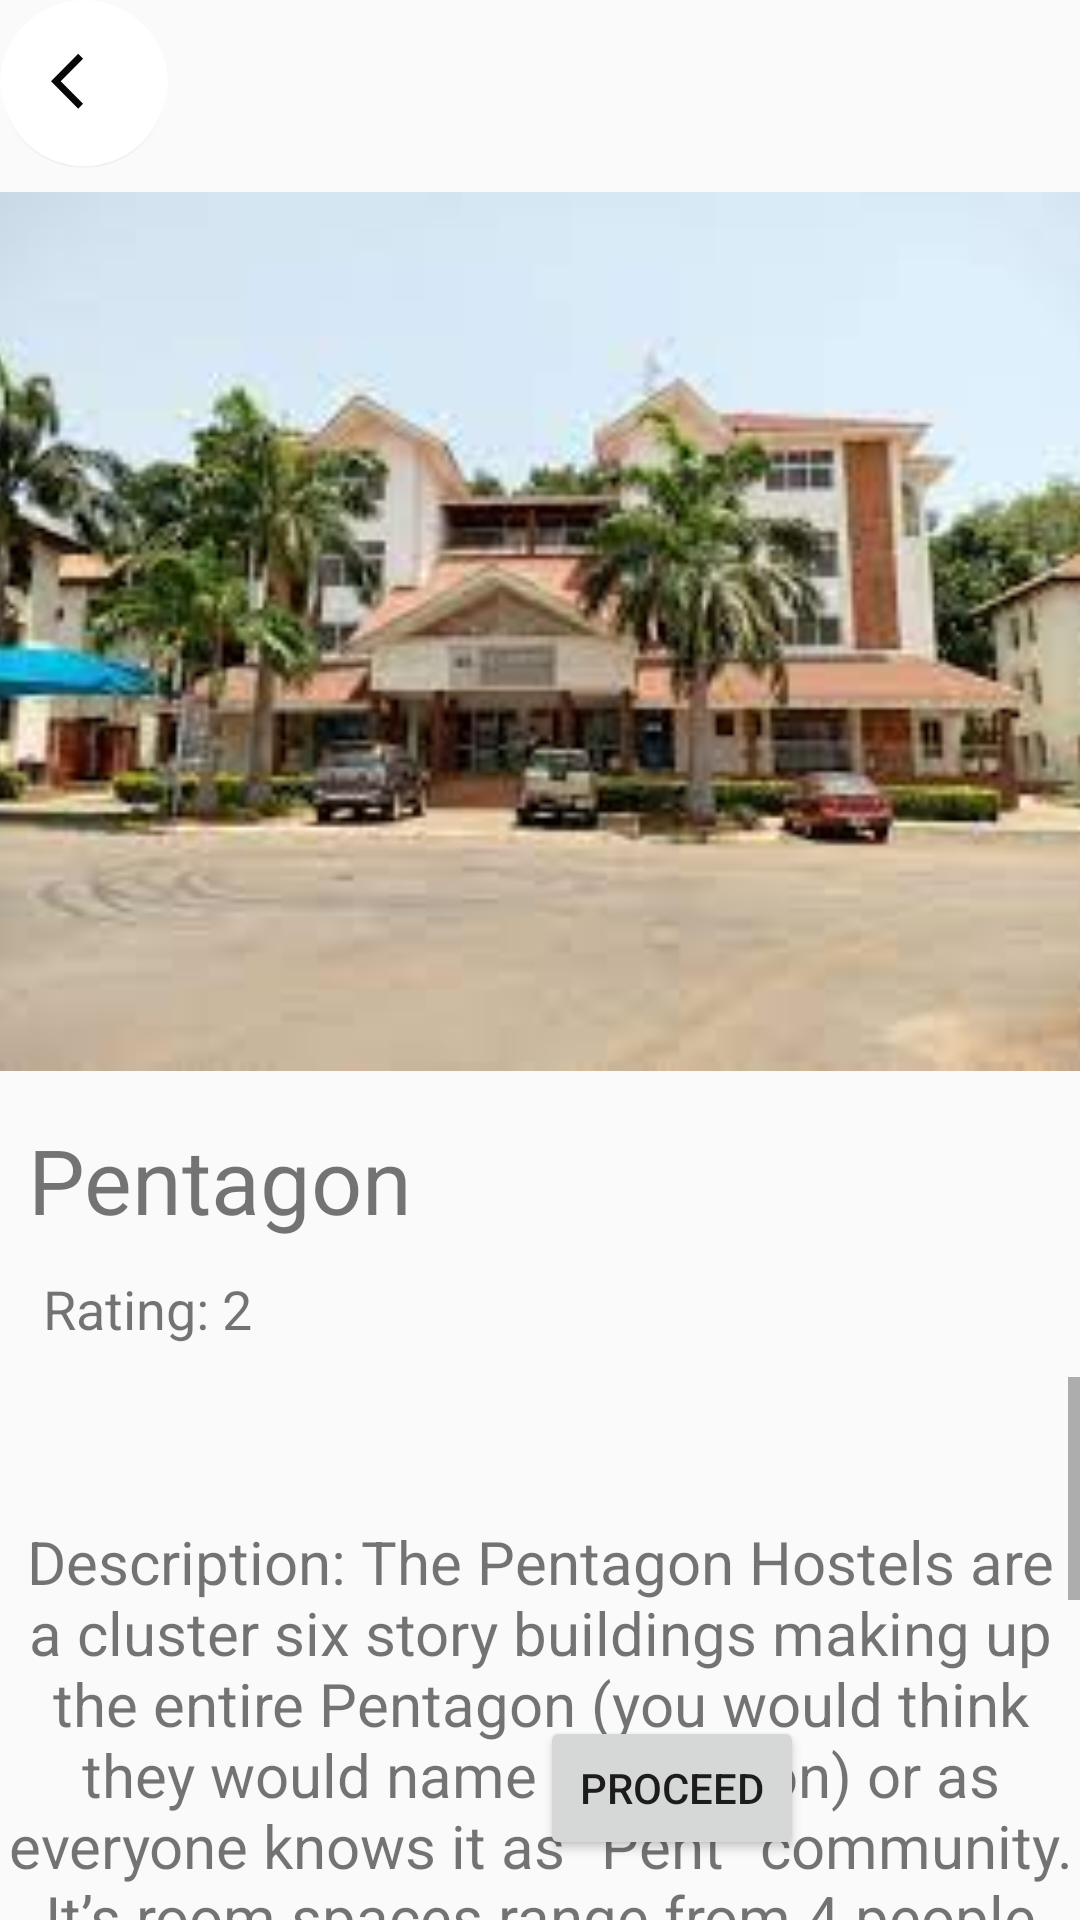

Locate icon controls on the screen. Image size 1080x1920, boxes as (x1, y1, x2, y2).
backw: (51, 54, 83, 109)
